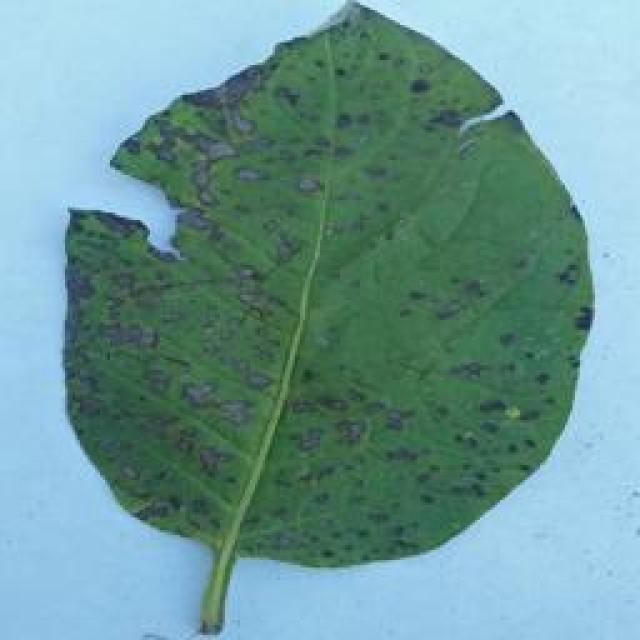Potato_Early_Blight: (52, 4, 598, 573)
